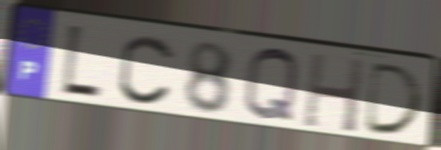8: (181, 39, 233, 117)
C: (115, 32, 178, 108)
D: (360, 60, 427, 138)
H: (300, 50, 367, 136)
L: (58, 20, 104, 103)
Q: (241, 45, 302, 126)
